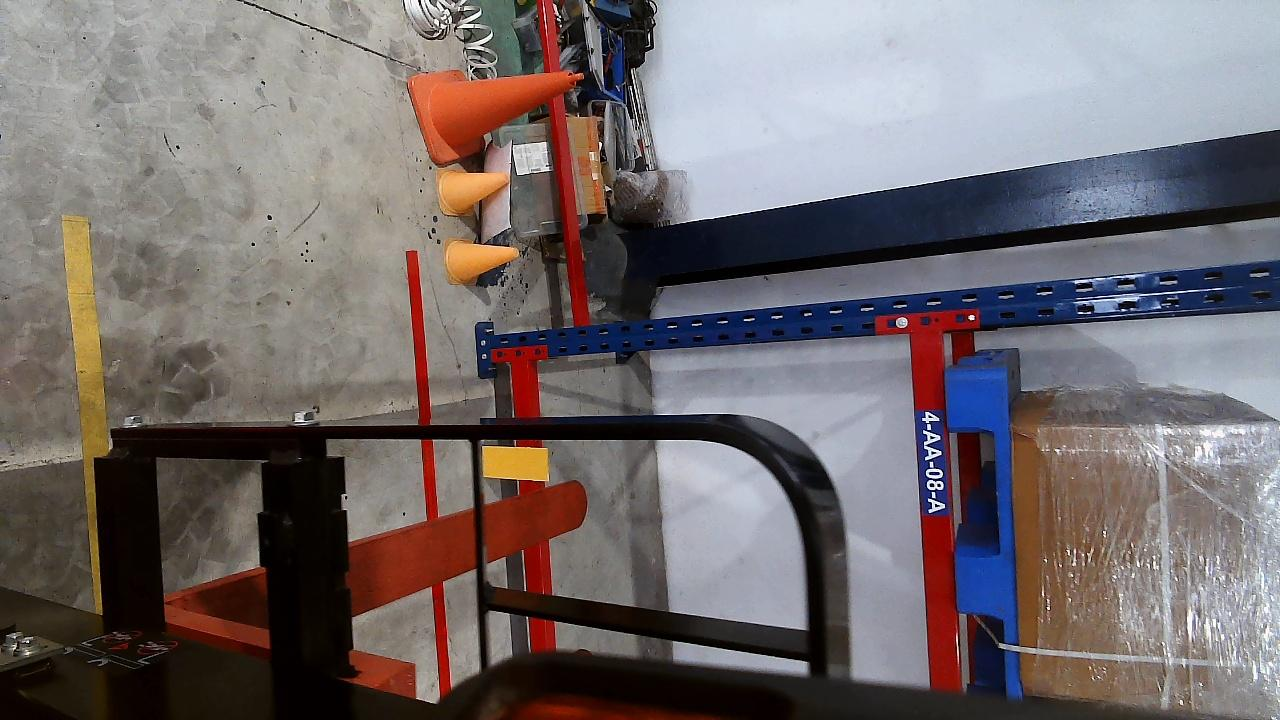h_rack: (907, 327, 963, 689), (506, 360, 561, 641)
orange_strip: (485, 445, 549, 483)
red_line: (406, 251, 448, 515)
small_pallet: (946, 334, 1020, 668)
yellow_line: (61, 214, 110, 453)
